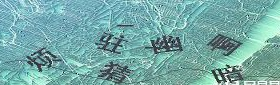chinese: (24, 47, 62, 73), (207, 29, 240, 57), (99, 58, 134, 84), (149, 31, 185, 55), (98, 28, 122, 52), (215, 62, 240, 85)
